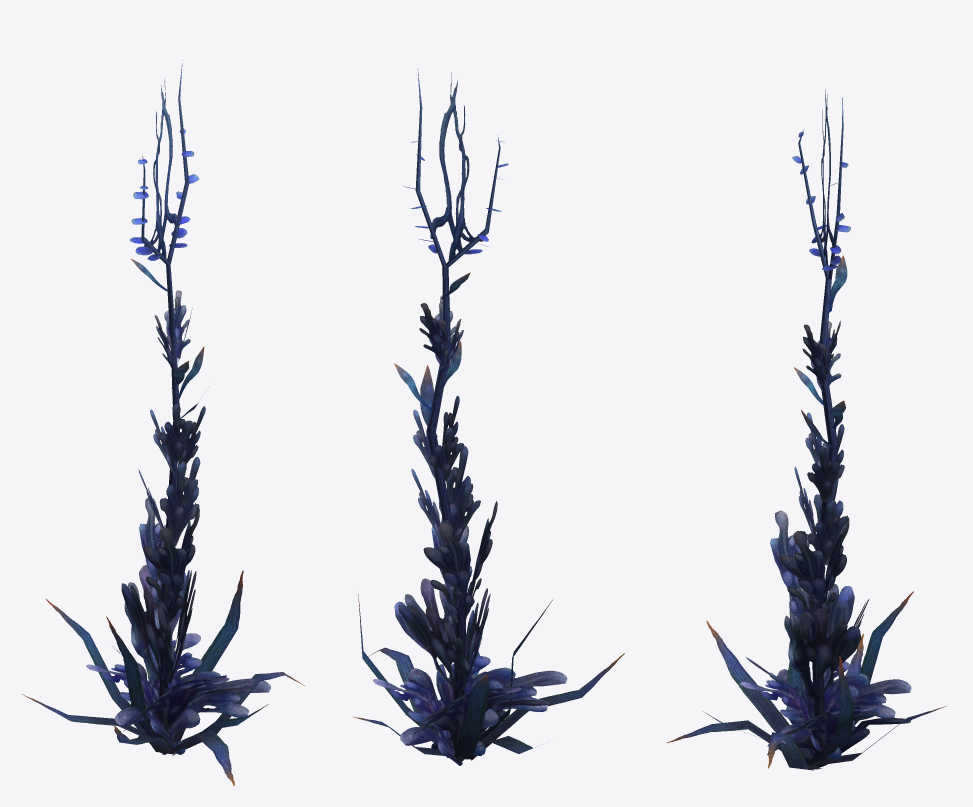
File: environment_Tree_yaocao_001_a.FBX
The picture shows the model from 3 angles, left to right: view 1: azimuth 30°, elevation 25°; view 2: azimuth 150°, elevation 25°; view 3: azimuth 270°, elevation 25°; orthographic projection. The views are drawn at different scales.
Visible parts, largest first — view 1: environment_Tree_yaocao_001_a, environment_Tree_yaocao_001_b; view 2: environment_Tree_yaocao_001_a, environment_Tree_yaocao_001_b; view 3: environment_Tree_yaocao_001_a, environment_Tree_yaocao_001_b.
Boxes of the visible parts, left/top/right/bottom form: environment_Tree_yaocao_001_a: left=86, top=129, right=270, bottom=754; environment_Tree_yaocao_001_b: left=22, top=60, right=304, bottom=785; environment_Tree_yaocao_001_a: left=373, top=140, right=567, bottom=765; environment_Tree_yaocao_001_b: left=352, top=68, right=624, bottom=761; environment_Tree_yaocao_001_a: left=740, top=131, right=911, bottom=767; environment_Tree_yaocao_001_b: left=667, top=89, right=946, bottom=770.
Bounding box in the file's own units: 241 × 671 × 239.
Materials: 2 (2 with a texture image).
